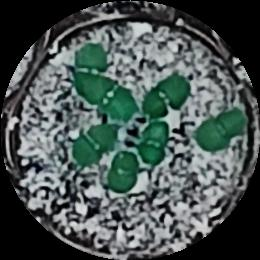Basil: (142, 75, 193, 119), (72, 123, 116, 168), (97, 81, 140, 125), (196, 111, 245, 149), (73, 43, 108, 96), (106, 156, 140, 194), (143, 122, 168, 162)
